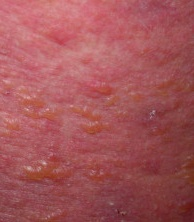SJS-TEN: (0, 73, 194, 196)
